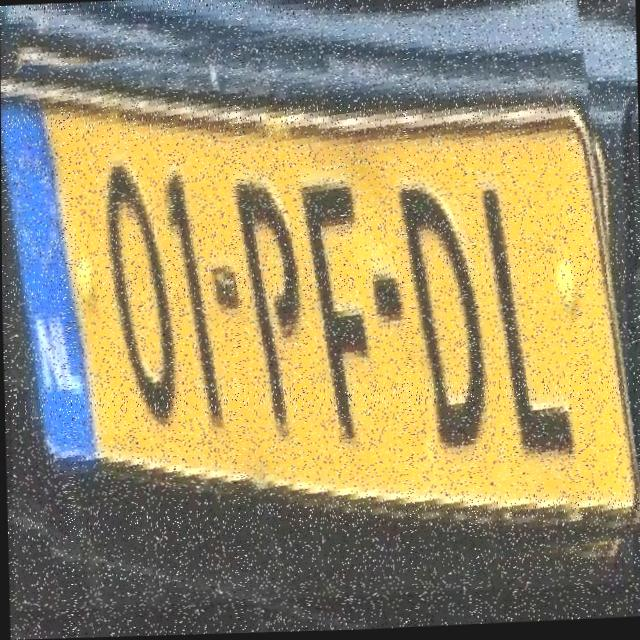LicensePlate: (1, 4, 633, 611)
